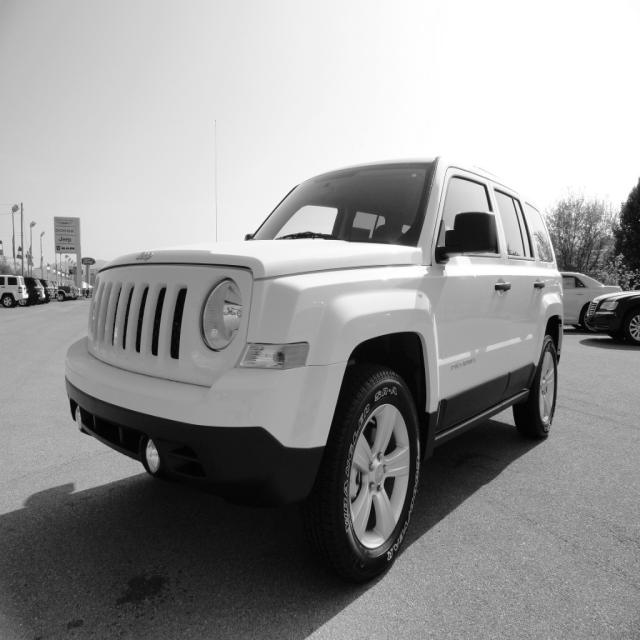car: (66, 156, 564, 572), (560, 271, 622, 331), (584, 290, 640, 344)
